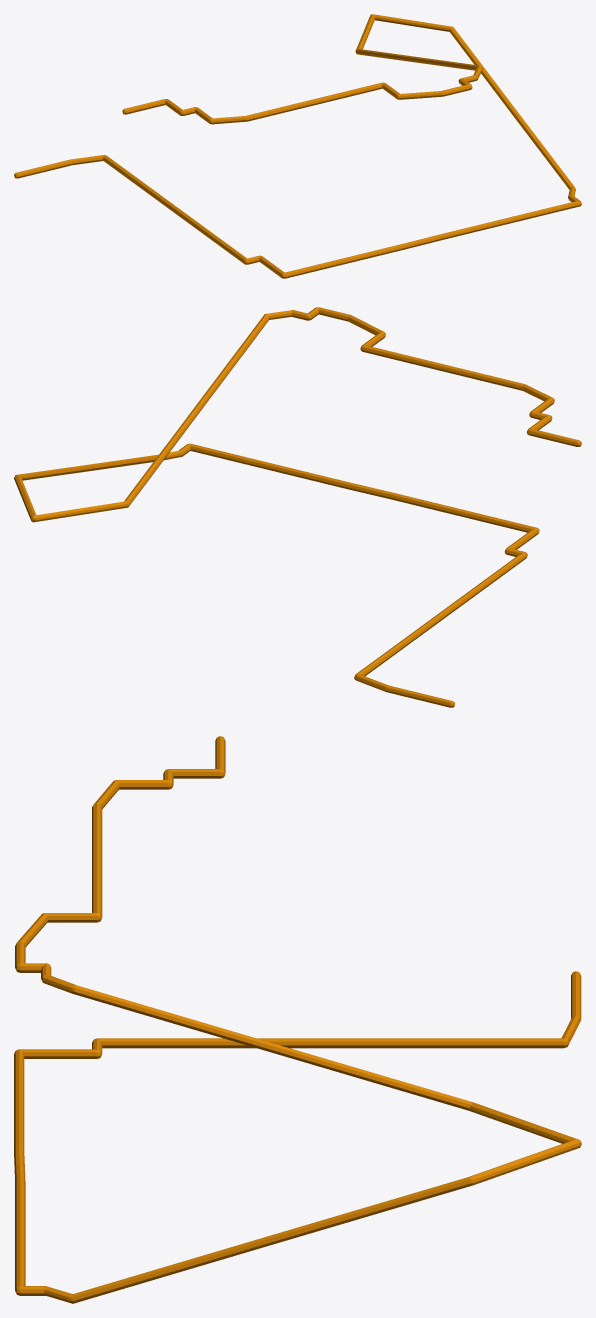
The picture shows the model from 3 angles, top to bottom: view 1: azimuth 30°, elevation 25°; view 2: azimuth 150°, elevation 25°; view 3: azimuth 270°, elevation 25°; orthographic projection. The views are drawn at different scales.
Size of the model in its own units: 1492 by 520 by 1094.
